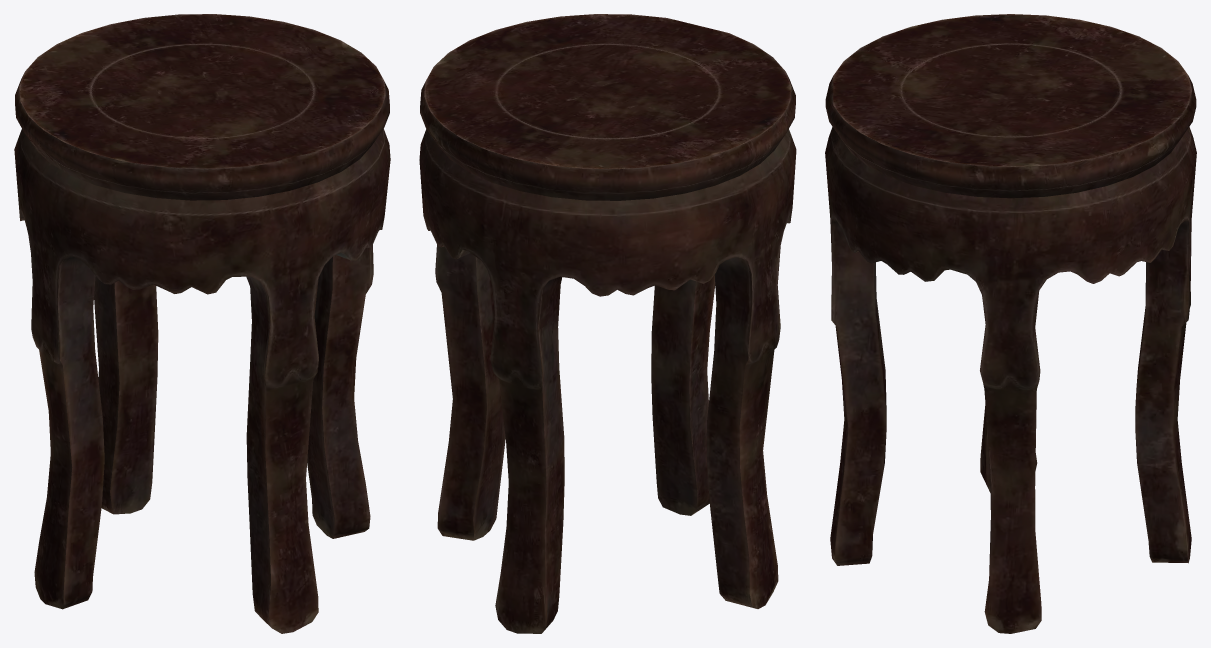
File: WoodenTable_02.glb
3 renders of one model, left to right at view 1: azimuth 30°, elevation 25°; view 2: azimuth 150°, elevation 25°; view 3: azimuth 270°, elevation 25°, orthographic.
Parts seen in each view (by area): view 1: WoodenTable_02; view 2: WoodenTable_02; view 3: WoodenTable_02.
Boxes of the visible parts, x1,y1,x2,y2 form: WoodenTable_02: (14,14,390,633); WoodenTable_02: (419,14,796,633); WoodenTable_02: (825,14,1196,633).
Bounding box in the file's own units: 0.3007 × 0.4177 × 0.3007.
1 material, 1 textured.
